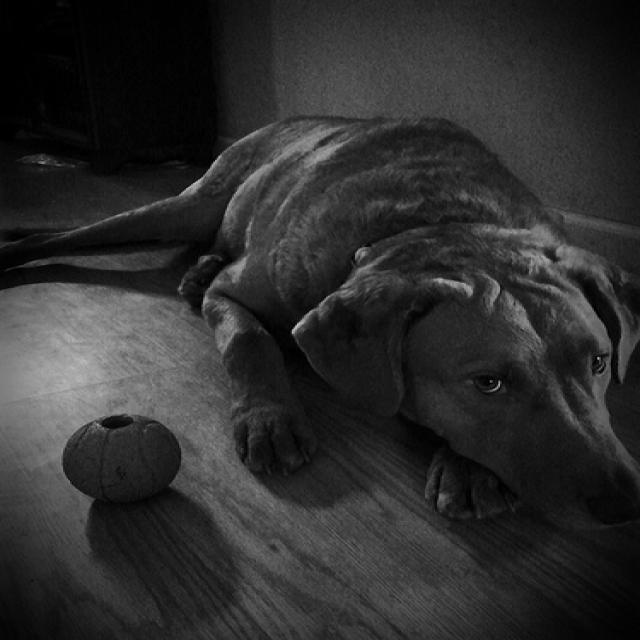dog: (121, 88, 640, 541)
